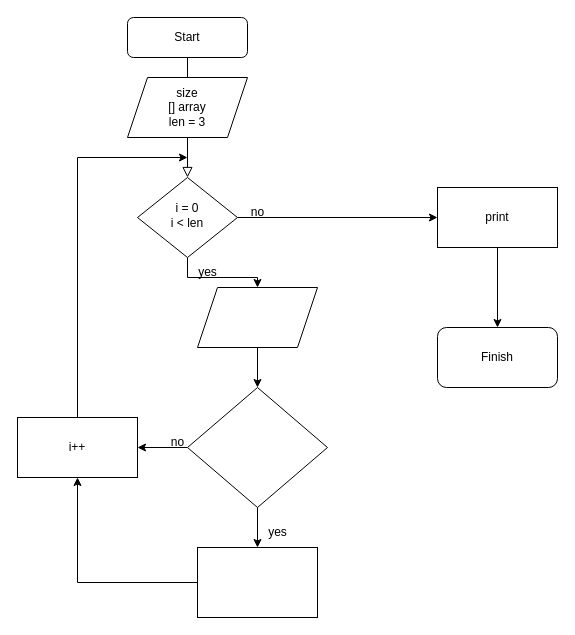
The diagram is 575 pixels wide and 635 high, and some of its shapes have lost their labels. Each missing label, with the centre of its shape:
"array[i] = element" goes at [257,582].
"element" goes at [257,317].
"element.length <= len" goes at [257,447].
